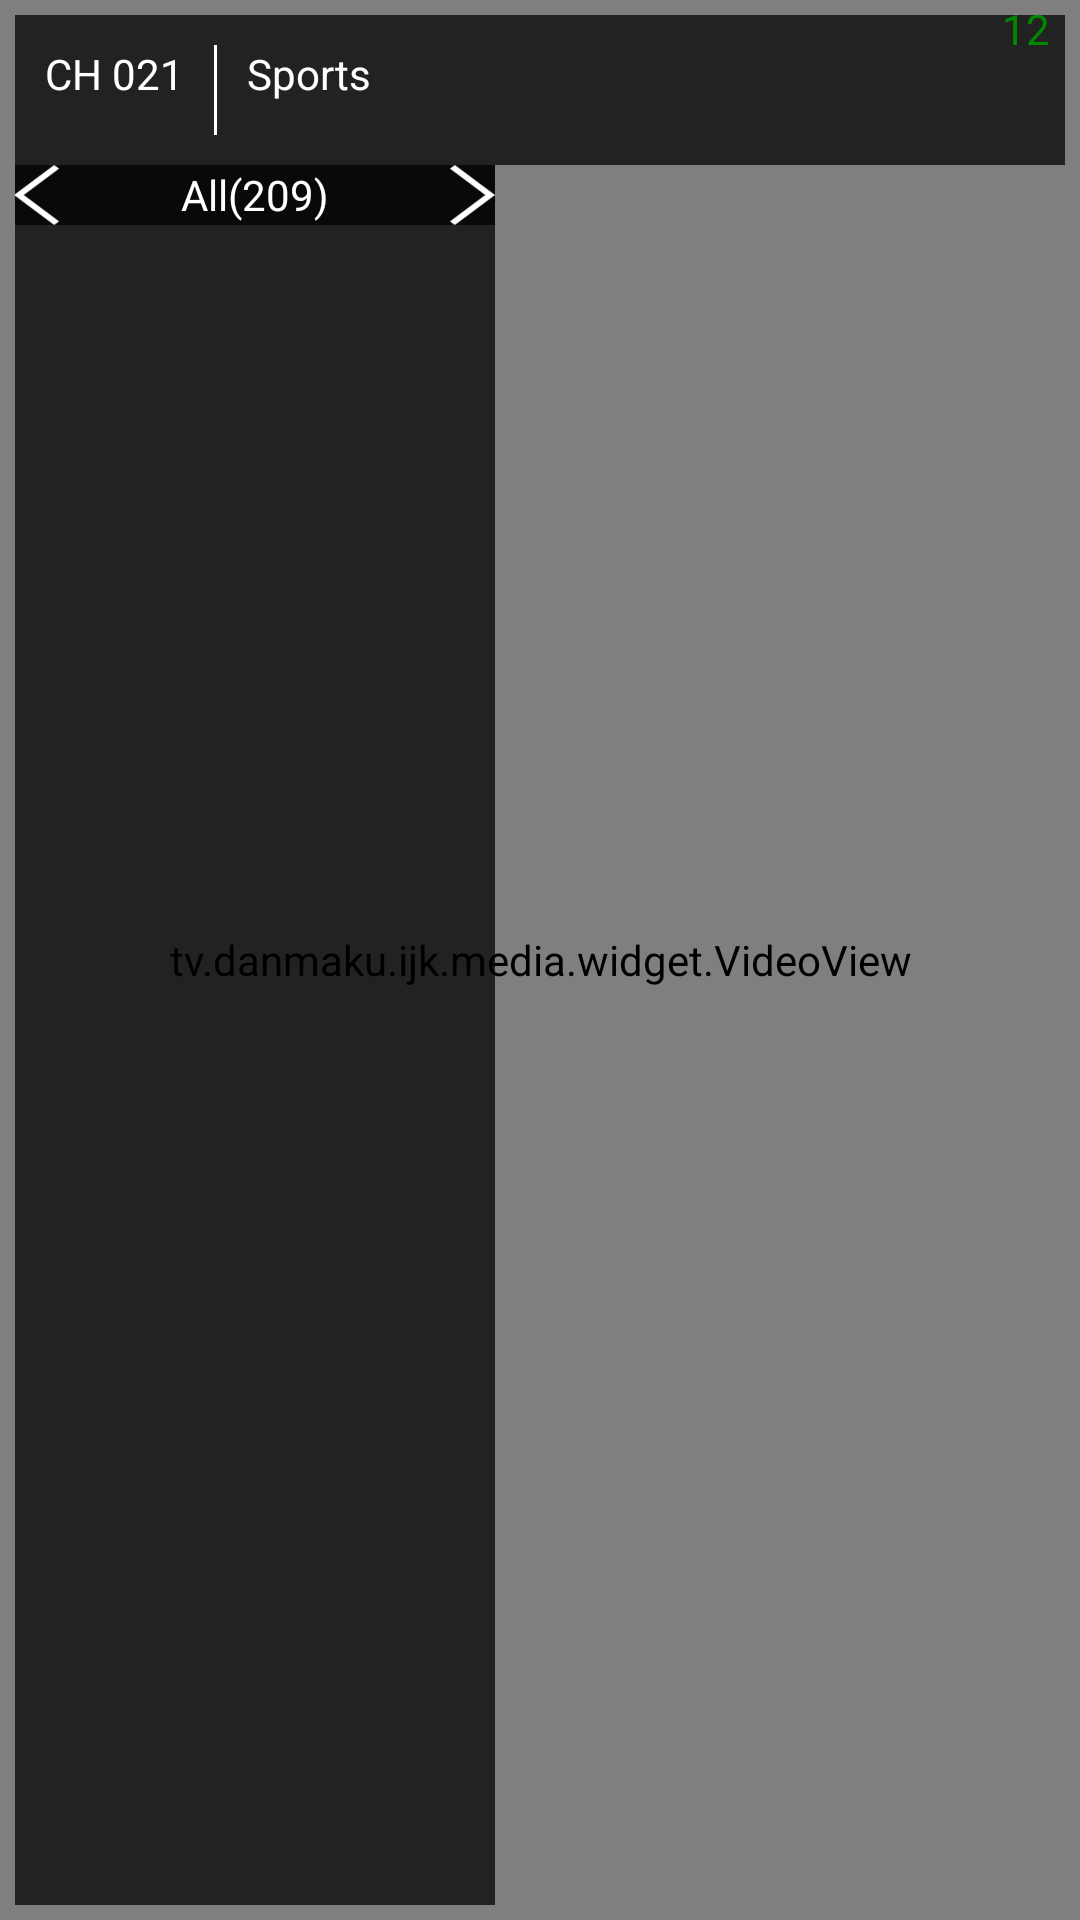

Screen size 1080 × 1920. Icon name, then its center in pixels as (x=x, y=y):
left: (x=37, y=195)
right: (x=472, y=195)
